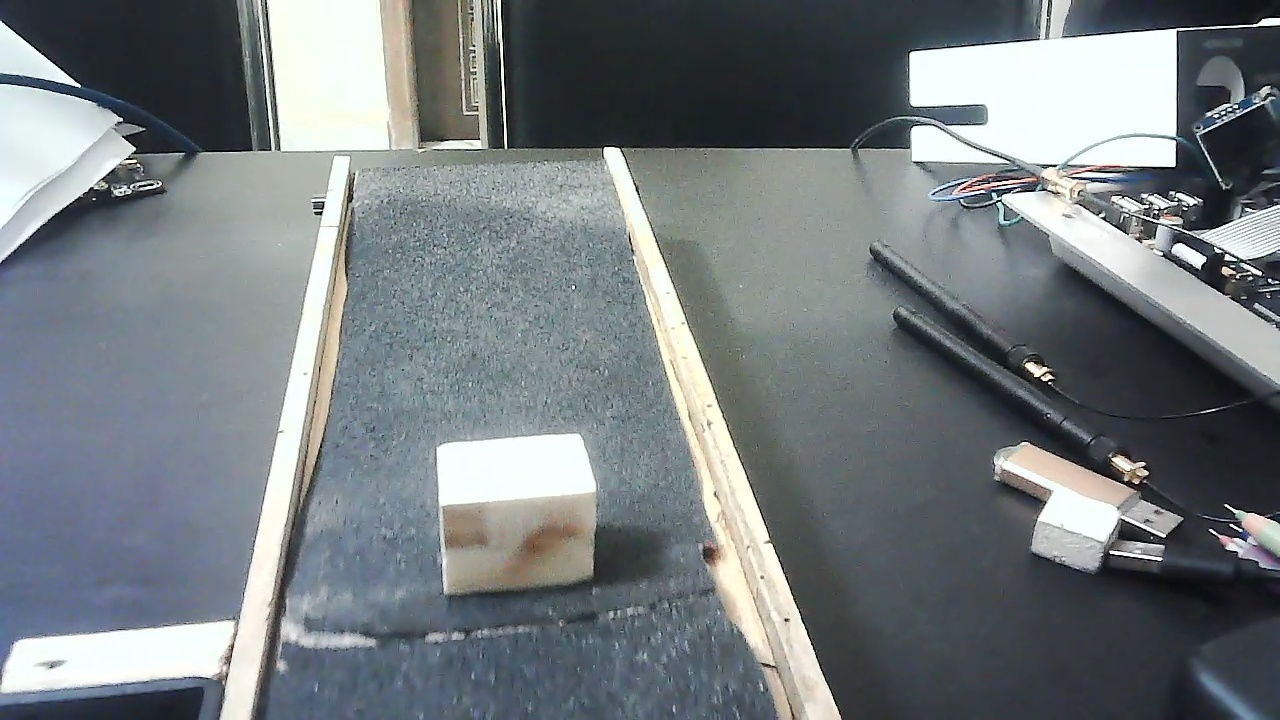Medium: (434, 429, 597, 592)
